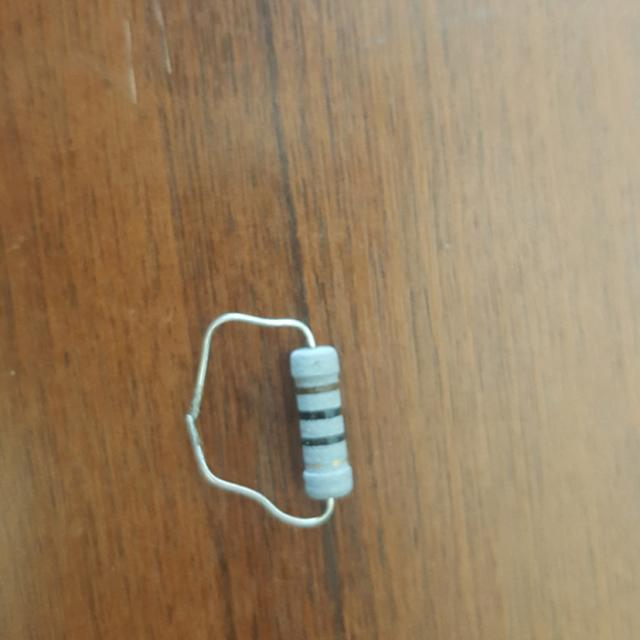black: (302, 434, 344, 446), (299, 408, 340, 420)
brown: (295, 384, 337, 394)
gold: (305, 459, 347, 468)
resistor: (270, 335, 373, 506)
